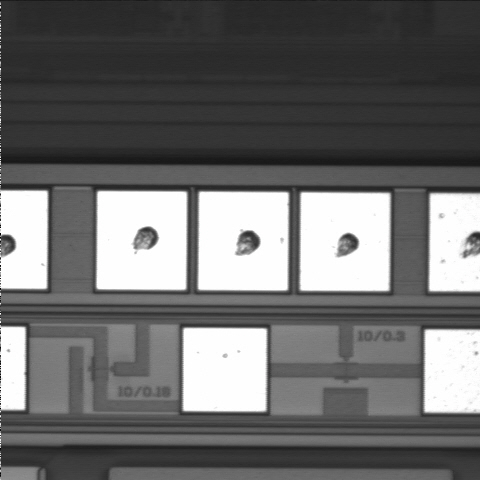pad: (97, 191, 187, 290), (198, 192, 288, 290), (300, 193, 390, 291), (183, 328, 267, 411)
